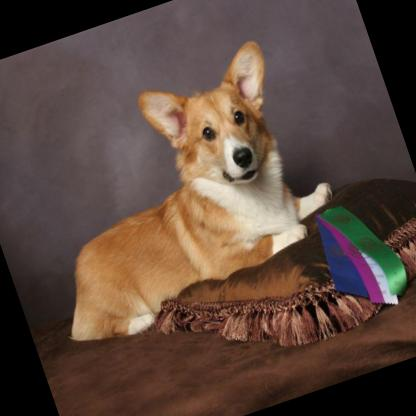Pembroke: (0, 19, 376, 364)
